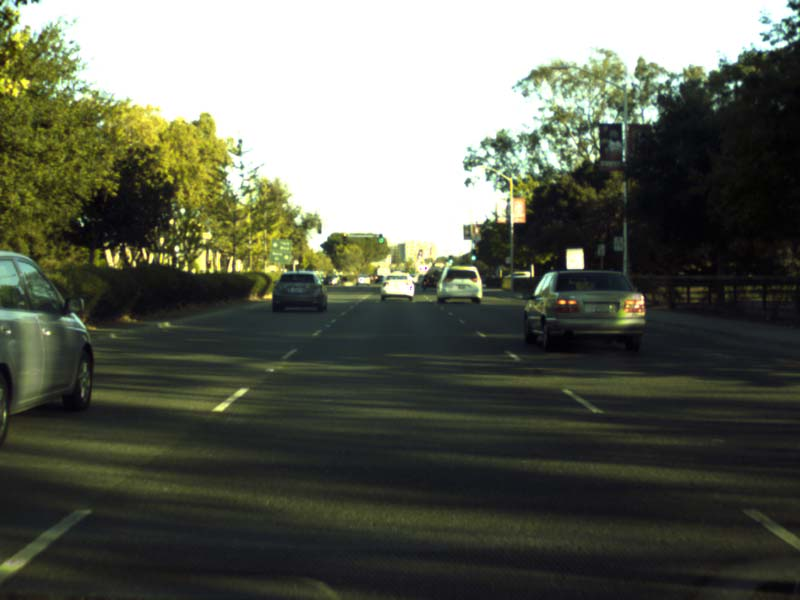Green: (378, 233, 383, 243), (471, 250, 476, 260), (448, 255, 453, 263)
Red: (343, 232, 346, 238)
